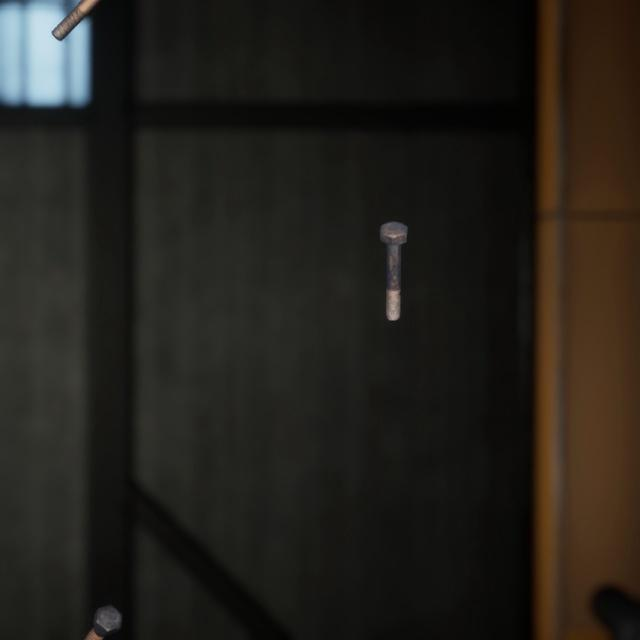bolt: (375, 201, 412, 309), (78, 576, 126, 631), (47, 0, 100, 39)
